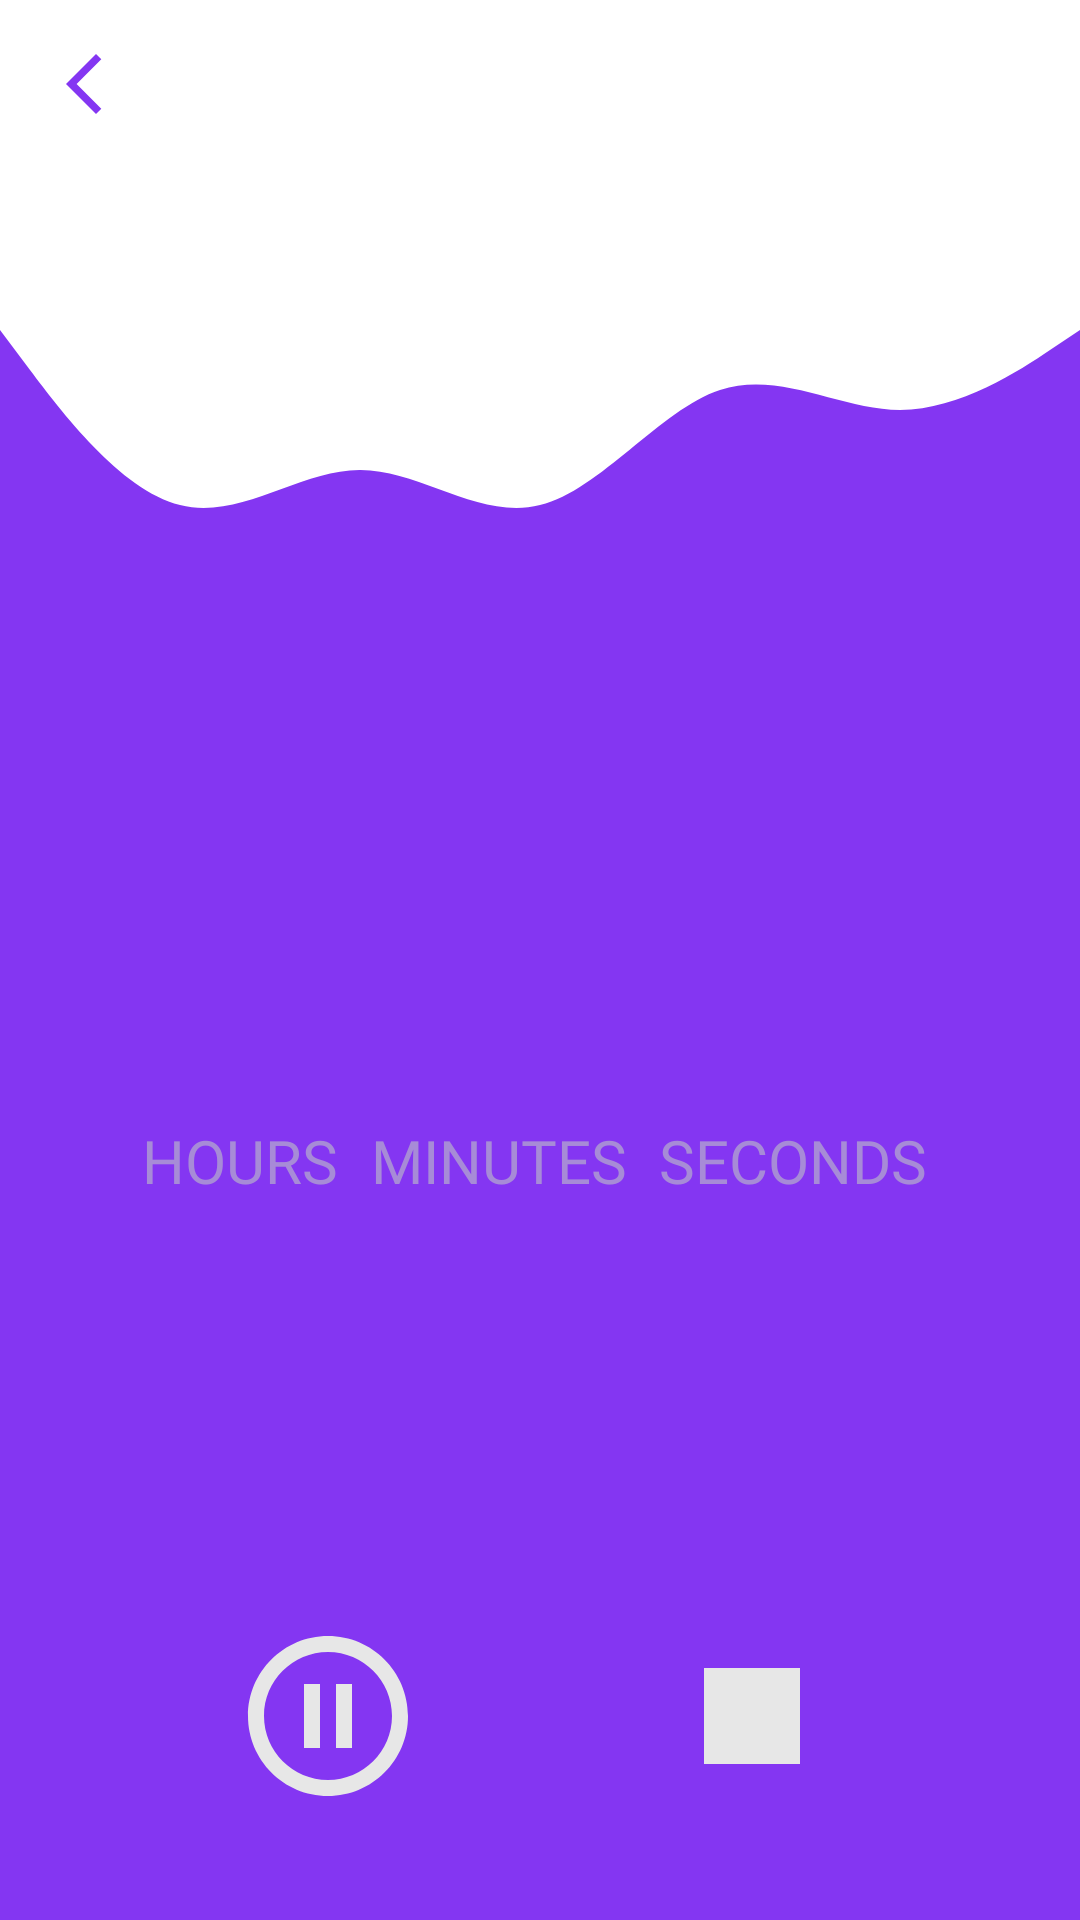

Screen size 1080x1920. Icon name, then its box in pixels as rect(x1, y1, x2, y2):
Back button: rect(66, 54, 101, 114)
Pause session: rect(248, 1636, 408, 1796)
